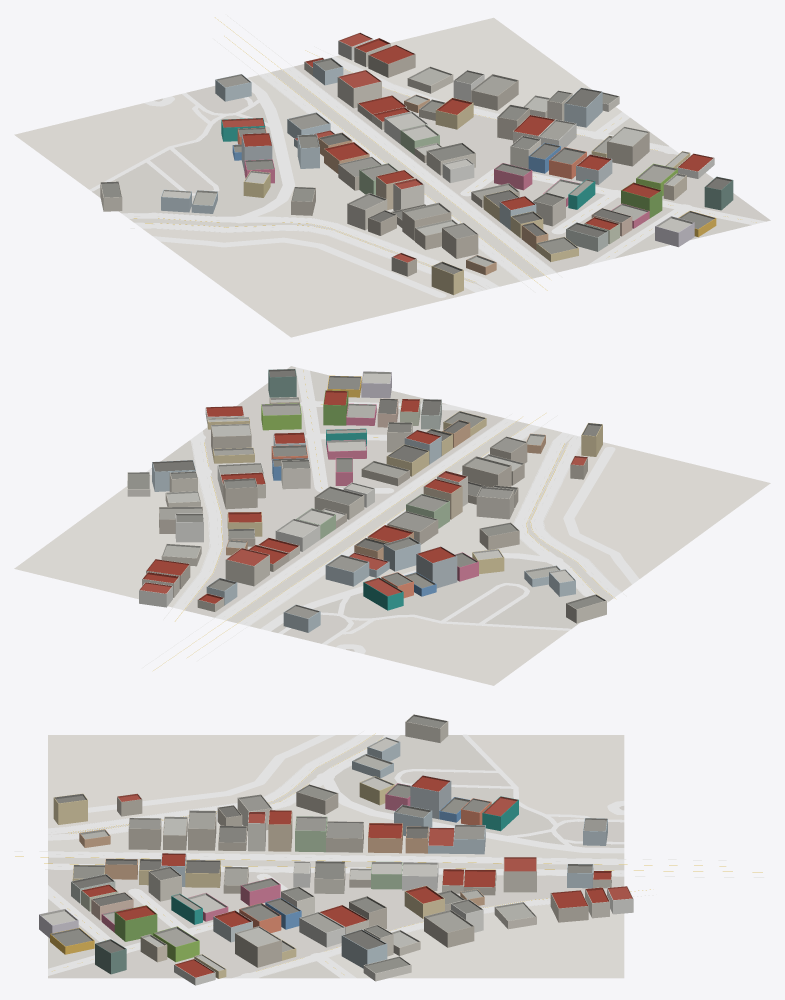
3 views of the same model, one above another, from view 1: azimuth 30°, elevation 25°; view 2: azimuth 150°, elevation 25°; view 3: azimuth 270°, elevation 25° (orthographic). The views are drawn at different scales.
Parts seen in each view (by area): view 1: ground, walls, roofs, asphalt, concrete, markings; view 2: ground, walls, roofs, asphalt, concrete, markings; view 3: ground, walls, roofs, asphalt, concrete, markings.
Part boxes in pixels (x1,y1,x2,y2): ground: (14, 17, 770, 337); walls: (100, 39, 733, 295); roofs: (100, 32, 732, 274); asphalt: (122, 56, 765, 297); concrete: (89, 93, 269, 195); markings: (130, 15, 756, 292); ground: (14, 366, 770, 685); walls: (127, 371, 606, 632); roofs: (127, 369, 606, 618); asphalt: (146, 367, 639, 653); concrete: (278, 583, 570, 644); markings: (143, 370, 626, 670); ground: (48, 735, 624, 978); walls: (39, 721, 633, 985); roofs: (39, 714, 633, 977); asphalt: (48, 735, 624, 978); concrete: (394, 734, 624, 845); markings: (14, 731, 763, 975).
Size of what is drawn, in the model's own units: 264 by 13.38 by 328.
